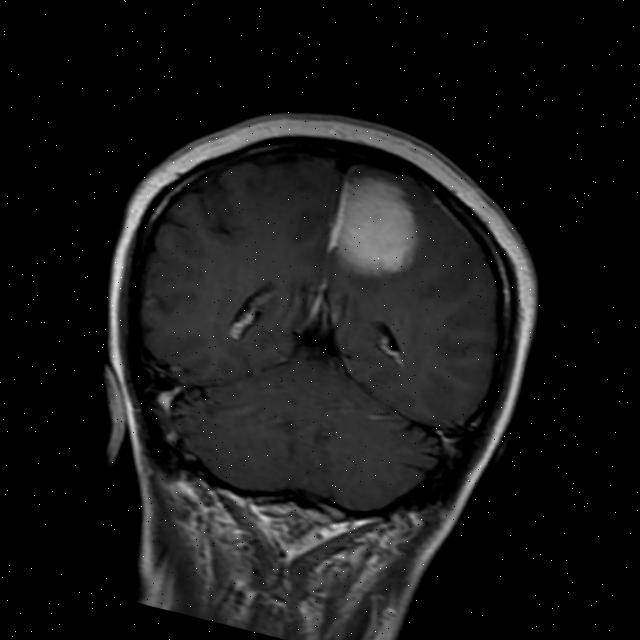Meningioma: (321, 167, 435, 288)
